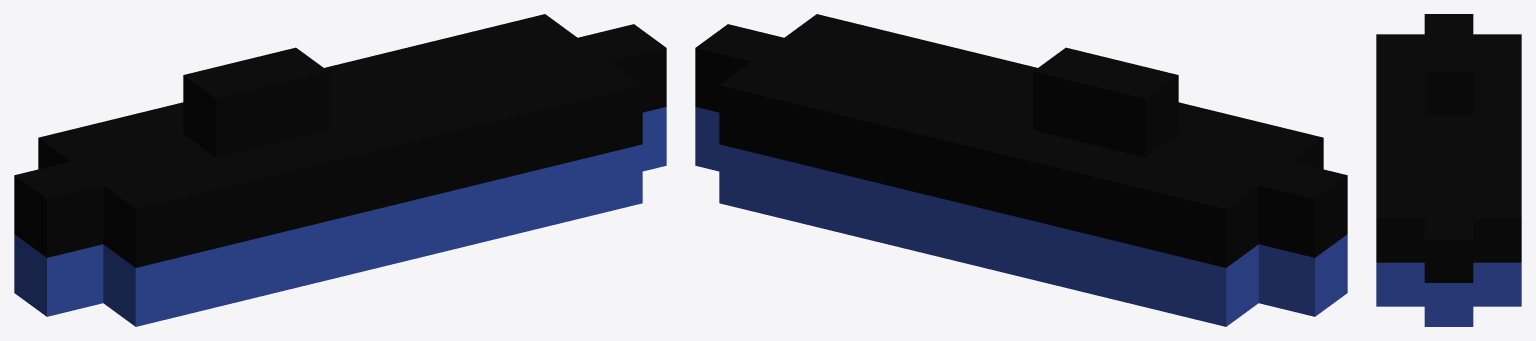
Rendered from submarine.glb.
3 views of the same model, side by side, from view 1: azimuth 30°, elevation 25°; view 2: azimuth 150°, elevation 25°; view 3: azimuth 270°, elevation 25° (orthographic). The views are drawn at different scales.
Parts seen in each view (by area): view 1: submarine; view 2: submarine; view 3: submarine.
Boxes of the visible parts, box(x1,y1,x2,y2) form: submarine: box(14, 14, 666, 326); submarine: box(695, 14, 1347, 326); submarine: box(1376, 14, 1521, 326).
Size of the model in its own units: 0.6875 by 0.1875 by 0.1875.
1 material, 1 textured.
